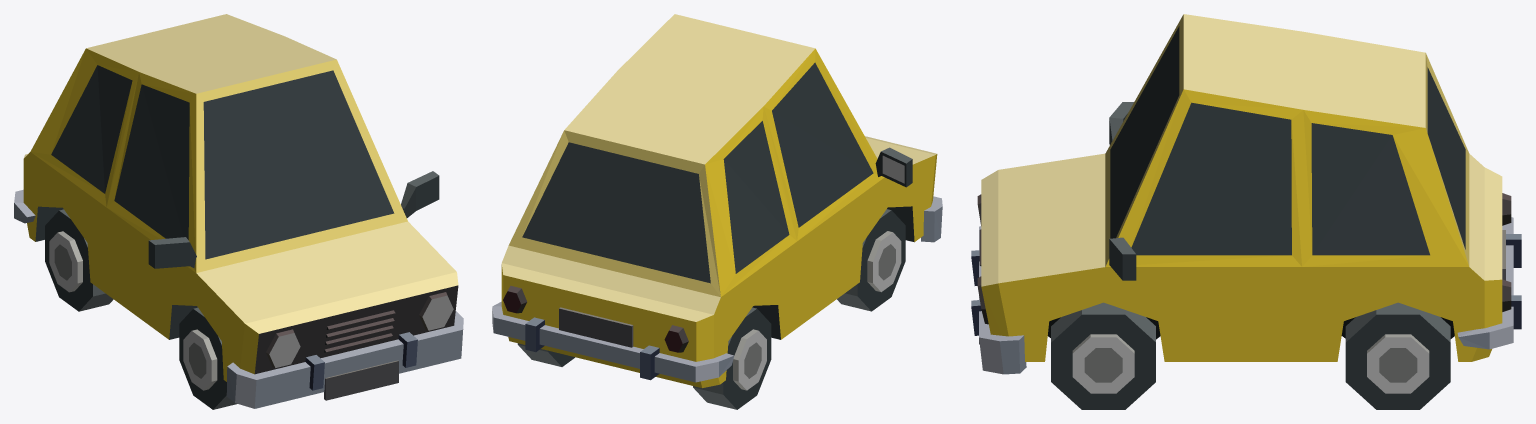
The model's file is TB_CITY_Car_Small_C.FBX.
3 views of the same model, side by side, from view 1: azimuth 30°, elevation 25°; view 2: azimuth 150°, elevation 25°; view 3: azimuth 270°, elevation 25° (orthographic). The views are drawn at different scales.
Visible parts, largest first — view 1: TB_CITY_Car_Small_C, TB_Car_Small_Wheel006, TB_Car_Small_Wheel005; view 2: TB_CITY_Car_Small_C, TB_Car_Small_Wheel006, TB_Car_Small_Wheel005, TB_Car_Small_Wheel007; view 3: TB_CITY_Car_Small_C, TB_Car_Small_Wheel007, TB_Car_Small_Wheel008.
Boxes of the visible parts, bbox=[...] form: TB_CITY_Car_Small_C: bbox=[14, 14, 463, 408]; TB_Car_Small_Wheel006: bbox=[45, 209, 113, 311]; TB_Car_Small_Wheel005: bbox=[179, 307, 237, 409]; TB_CITY_Car_Small_C: bbox=[492, 14, 942, 388]; TB_Car_Small_Wheel006: bbox=[693, 307, 771, 409]; TB_Car_Small_Wheel005: bbox=[837, 209, 905, 311]; TB_Car_Small_Wheel007: bbox=[517, 343, 574, 366]; TB_CITY_Car_Small_C: bbox=[971, 14, 1521, 374]; TB_Car_Small_Wheel007: bbox=[1345, 302, 1450, 409]; TB_Car_Small_Wheel008: bbox=[1051, 302, 1155, 409].
Size of the model in its own units: 3.12 by 2.88 by 4.76.
